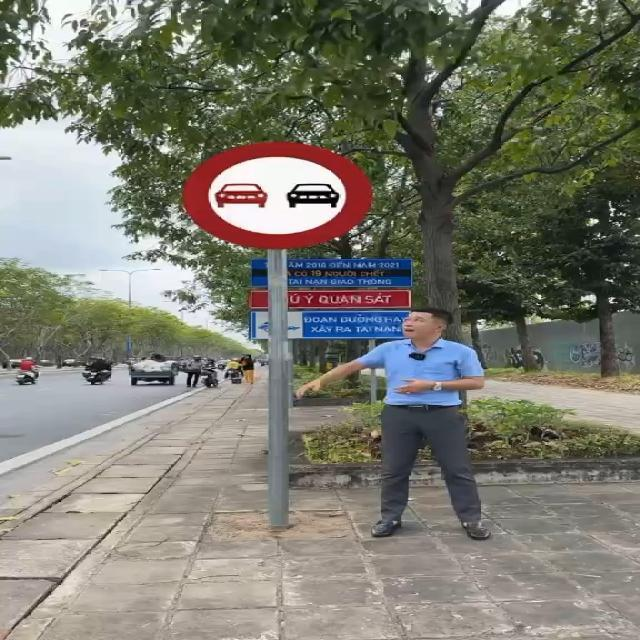125-cam-vuot: (181, 140, 365, 250)
